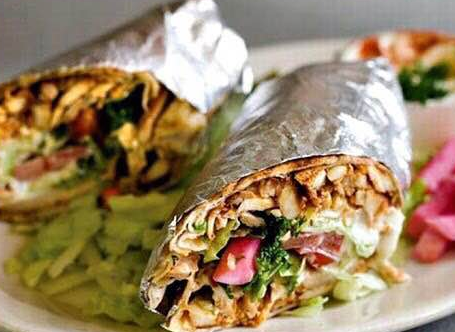soup: (138, 153, 407, 328)
